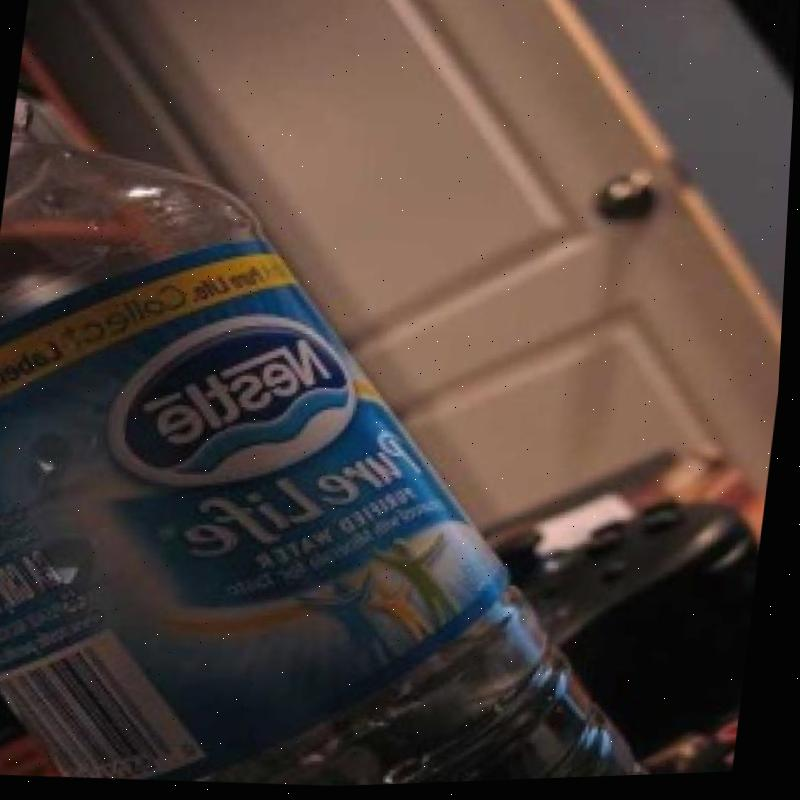botella: (0, 70, 744, 800)
